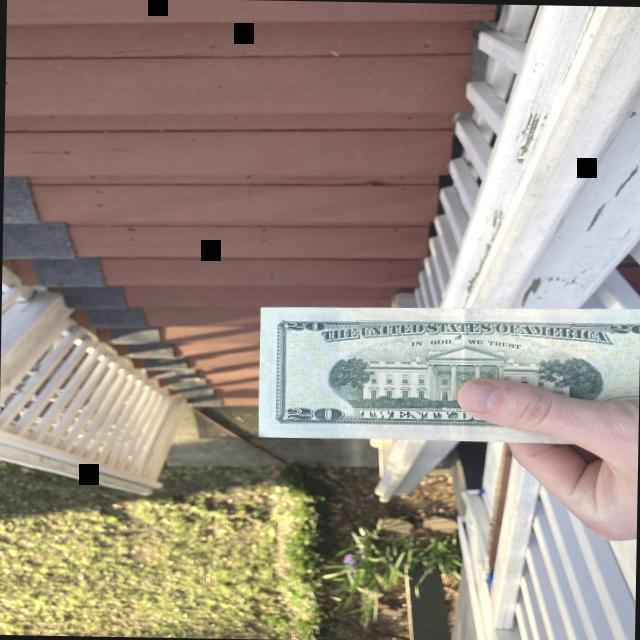twenty: (257, 302, 640, 444)
